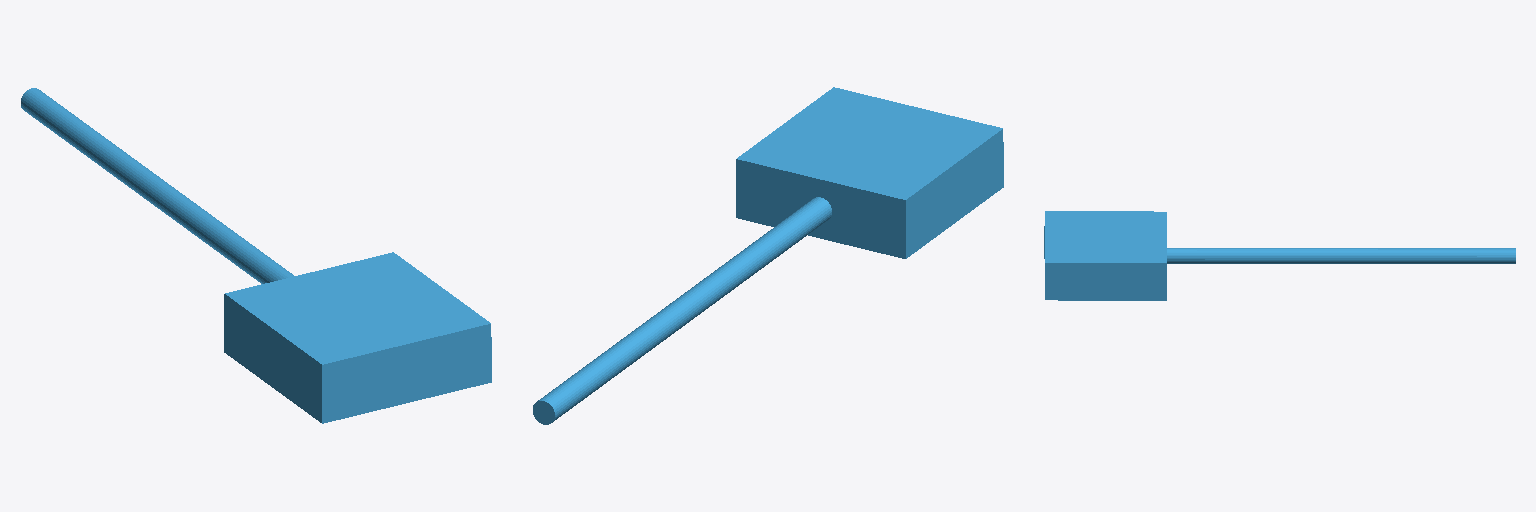
The robot description file, URDF, robot "camera_robot":
<?xml version="1.0"?>
<robot xmlns:xacro="http://www.ros.org/wiki/xacro" name="camera_robot">

    <!-- World Link -->
    <link name="world"/>

    <!-- Camera Links -->
    <link name="camera_link">
        <visual>
            <geometry>
                <box size="0.010 0.03 0.03"/>
            </geometry>
            <material name="Gazebo/Black"/>
        </visual>
        <visual>
            <origin xyz="0 0 -0.05"/>
            <geometry>
                <cylinder radius="0.002" length="0.1"/>
            </geometry>
            <material name="Gazebo/Black"/>
        </visual>
        <collision>
            <geometry>
                <box size="0.010 0.03 0.03"/>
            </geometry>
        </collision>
        <inertial>
            <mass value="0.1"/>
            <inertia ixx="1e-5" ixy="0.0" ixz="0.0" iyy="1e-5" iyz="0.0" izz="1e-5"/>
        </inertial>
    </link>

    <link name="camera_link_optical"/>

    <!-- Joints -->
    <joint name="world_camera" type="fixed">
        <parent link="world"/>
        <child link="camera_link"/>
        <origin xyz="0.0 0.0 11.0" rpy="0.0 1.57 -1.57"/>
    </joint>

    <joint name="camera_optical_joint" type="fixed">
        <parent link="camera_link"/>
        <child link="camera_link_optical"/>
        <origin xyz="0 0 0" rpy="-1.5708 0 -1.5708"/>
    </joint>

    <!-- Gazebo Camera Plugin -->
    <gazebo reference="camera_link">
        <material>Gazebo/Black</material>
        <sensor name="camera" type="camera">
            <pose>0 0 0 0 0 0</pose>            <!-- Camera placed 5 meters above the ground -->
            <visualize>true</visualize>
            <update_rate>10</update_rate>
            <camera>
                <!-- Horizontal FOV adjusted to 45 degrees (0.785 radians) -->
                <horizontal_fov>0.785</horizontal_fov>
                <!-- Vertical FOV adjusted to approximately 38.66 degrees (0.675 radians) -->
                <vertical_fov>0.675</vertical_fov>
                <image>
                    <width>640</width>
                    <height>480</height>
                    <format>R8G8B8</format>
                </image>
                <clip>
                    <near>0.1</near>                    <!-- Adjusted near clipping plane -->
                    <far>25.0</far>                    <!-- Adjusted far clipping plane -->
                </clip>
            </camera>
            <plugin name="camera_controller" filename="libgazebo_ros_camera.so">
                <frame_name>camera_link_optical</frame_name>
            </plugin>
        </sensor>
    </gazebo>


</robot>

--- Render facts (derived) ---
The picture shows the robot from 3 angles, left to right: view 1: azimuth 30°, elevation 25°; view 2: azimuth 150°, elevation 25°; view 3: azimuth 270°, elevation 25°; orthographic projection.
Robot: camera_robot — 3 links, 2 joints (2 fixed); root link world; default pose: every joint at zero.
Links seen in each view (by area): view 1: camera_link; view 2: camera_link; view 3: camera_link.
Link boxes in pixels (x1,y1,x2,y2): camera_link: (21, 88, 491, 423); camera_link: (533, 87, 1003, 424); camera_link: (1044, 211, 1515, 300).
Bounding box of the posed robot: 0.03 × 0.115 × 0.01 m (x, y, z).
Geometry: primitives only (box / cylinder / sphere), no mesh files.